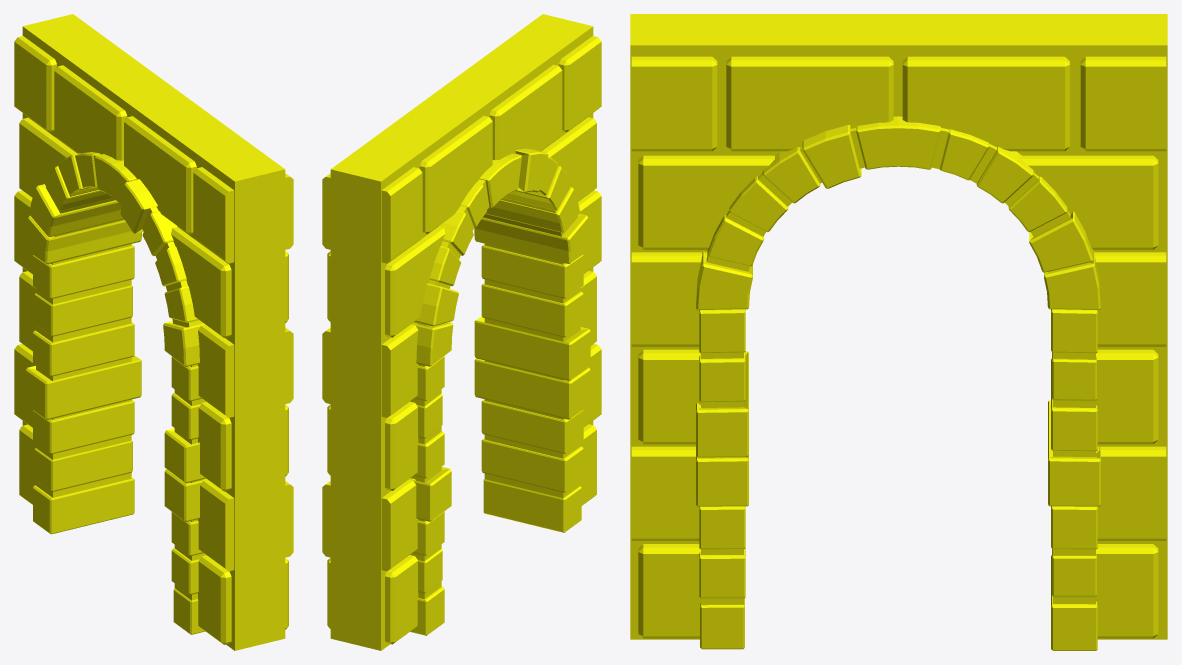
The model's file is DoorWall.glb.
3 views of the same model, side by side, from view 1: azimuth 30°, elevation 25°; view 2: azimuth 150°, elevation 25°; view 3: azimuth 270°, elevation 25° (orthographic). The views are drawn at different scales.
Visible parts, largest first — view 1: Wall Arc; view 2: Wall Arc; view 3: Wall Arc.
Part boxes in pixels (x1,y1,x2,y2): Wall Arc: [14, 14, 293, 650]; Wall Arc: [322, 14, 601, 650]; Wall Arc: [630, 14, 1167, 650].
Size of the model in its own units: 0.5288 by 2.46 by 2.01.
Materials: 1 (1 with a texture image).
